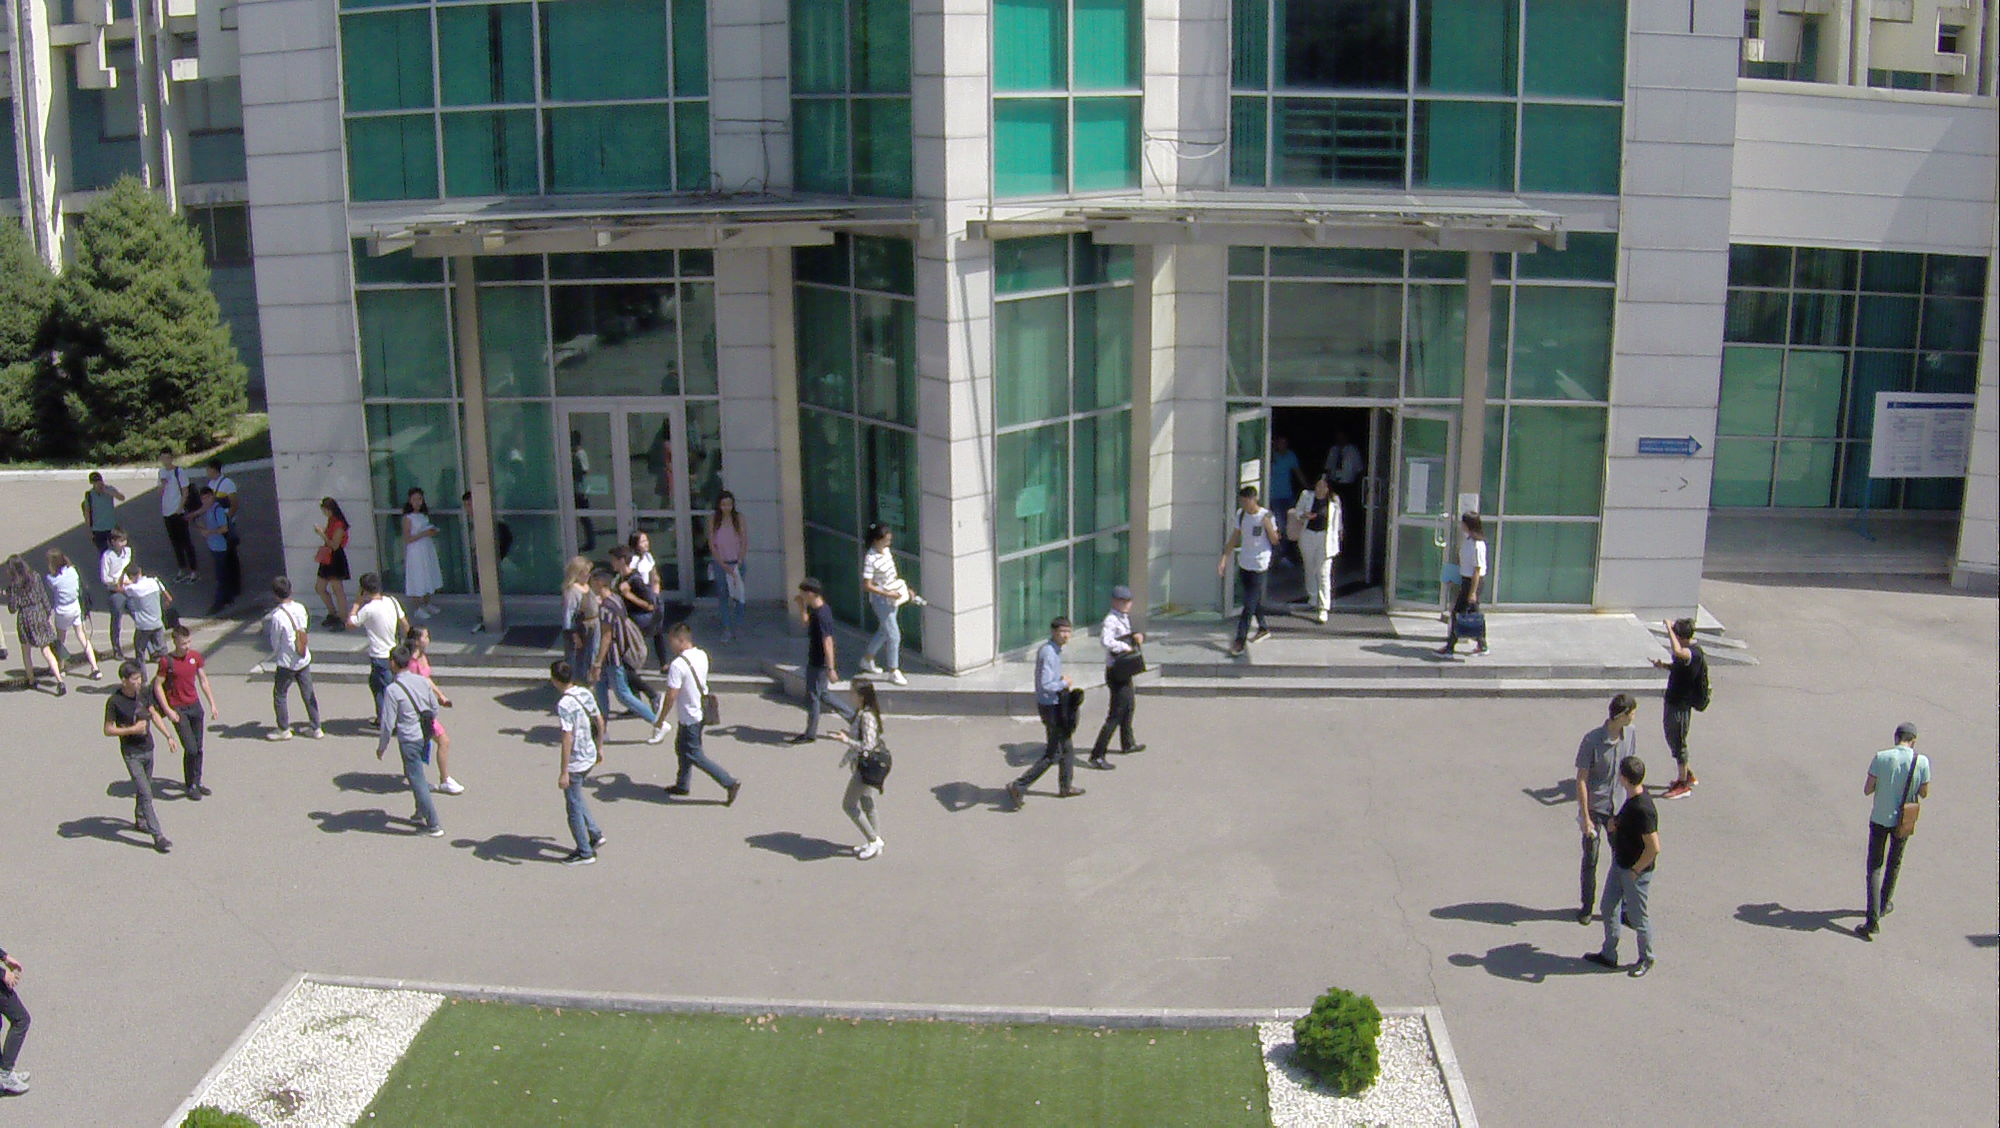person: (1849, 717, 1933, 944), (647, 617, 742, 811), (530, 657, 610, 875), (1002, 613, 1089, 811), (1586, 755, 1665, 977), (360, 648, 444, 842), (586, 566, 671, 742), (102, 658, 173, 855), (823, 676, 898, 862), (244, 573, 325, 740), (785, 570, 861, 745), (1645, 607, 1711, 803), (853, 519, 924, 688), (155, 627, 220, 806), (1573, 695, 1624, 919), (1219, 485, 1277, 654), (1092, 584, 1145, 770), (1, 551, 64, 695), (1438, 507, 1493, 661), (352, 574, 405, 730), (1291, 471, 1346, 623), (42, 549, 103, 686), (704, 488, 754, 648), (153, 446, 202, 589), (308, 493, 353, 638), (399, 491, 448, 621), (98, 527, 143, 664), (111, 564, 176, 655), (196, 483, 237, 619), (549, 554, 593, 667), (82, 470, 121, 527), (205, 454, 228, 504)
